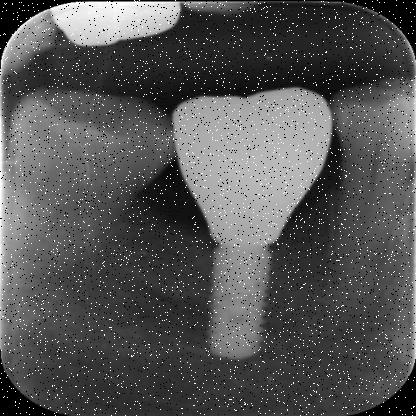ITI: (184, 246, 298, 363)
